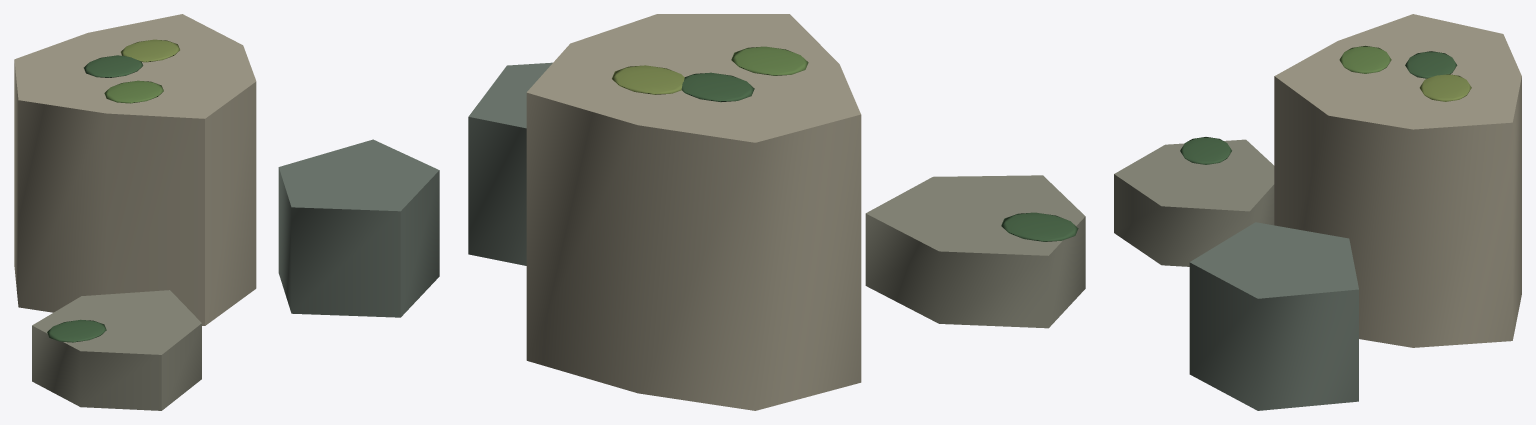
3 renders of one model, left to right at view 1: azimuth 30°, elevation 25°; view 2: azimuth 150°, elevation 25°; view 3: azimuth 270°, elevation 25°, orthographic. The views are drawn at different scales.
Visible parts, largest first — view 1: climb-rocks-7-0, climb-rocks-7-1, climb-rocks-7-2, 바위 08; view 2: climb-rocks-7-0, climb-rocks-7-2, climb-rocks-7-1, 바위 08; view 3: climb-rocks-7-0, climb-rocks-7-1, climb-rocks-7-2, 바위 08.
Boxes of the visible parts, left/top/right/bottom form: climb-rocks-7-0: left=14, top=14, right=256, bottom=325; climb-rocks-7-1: left=278, top=139, right=439, bottom=317; climb-rocks-7-2: left=32, top=290, right=201, bottom=410; 바위 08: left=47, top=39, right=179, bottom=342; climb-rocks-7-0: left=526, top=14, right=861, bottom=410; climb-rocks-7-2: left=865, top=175, right=1085, bottom=328; climb-rocks-7-1: left=468, top=62, right=552, bottom=265; 바위 08: left=612, top=46, right=1078, bottom=241; climb-rocks-7-0: left=1274, top=14, right=1521, bottom=347; climb-rocks-7-1: left=1189, top=222, right=1358, bottom=410; climb-rocks-7-2: left=1114, top=139, right=1274, bottom=266; 바위 08: left=1180, top=45, right=1471, bottom=164.
Bounding box in the file's own units: 3.47 × 1.69 × 2.81.
